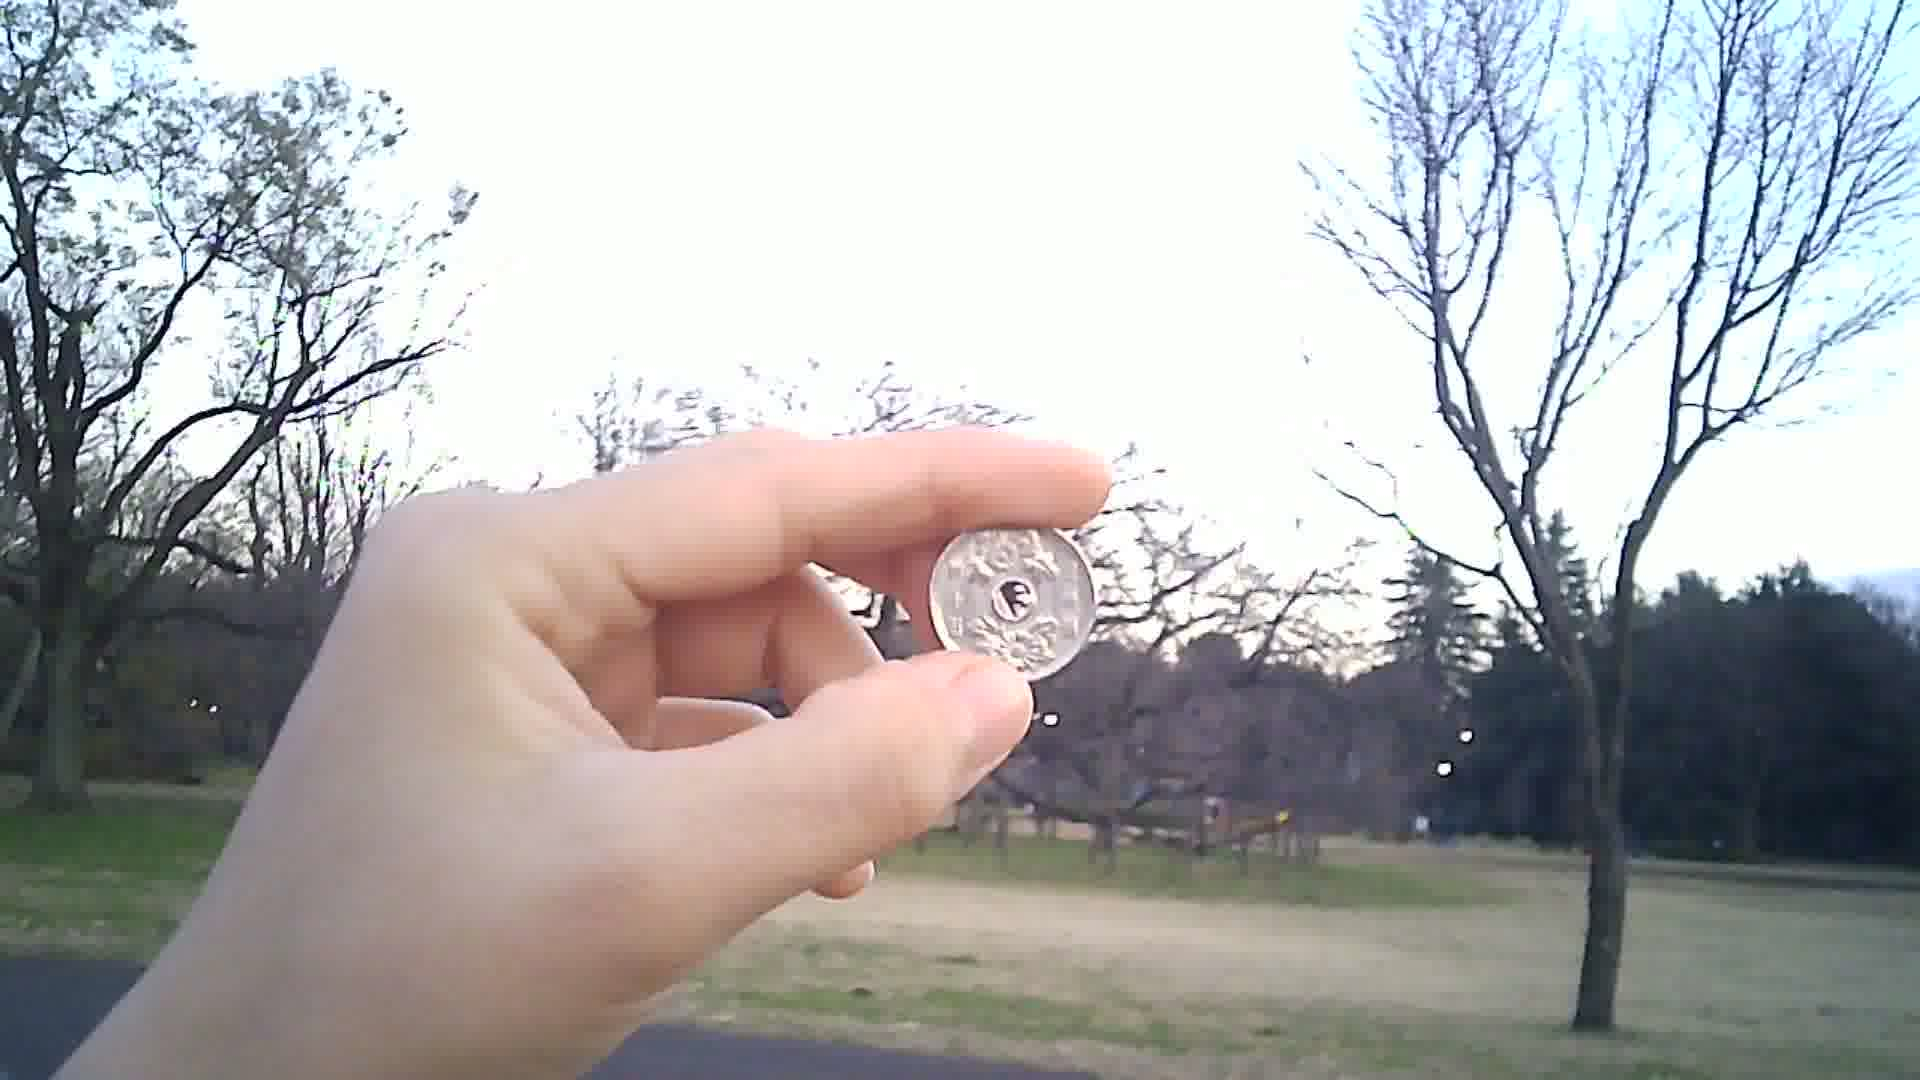50 Yen: (928, 506, 1101, 690)
